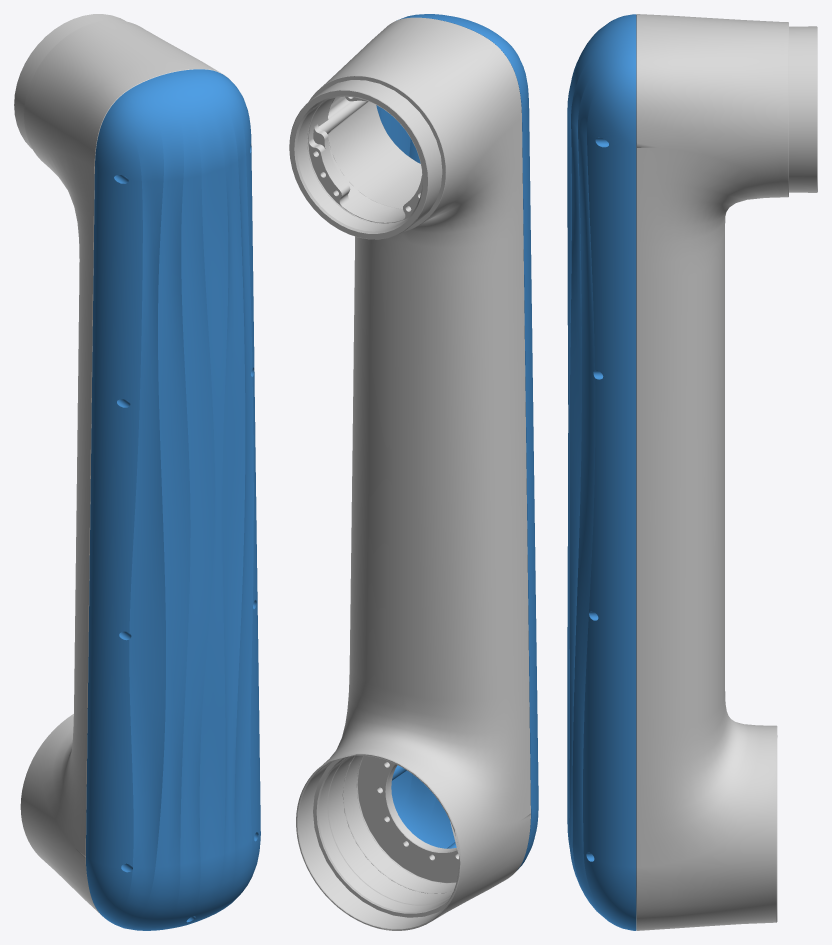
The picture shows the model from 3 angles, left to right: view 1: azimuth 30°, elevation 25°; view 2: azimuth 150°, elevation 25°; view 3: azimuth 270°, elevation 25°; orthographic projection. The views are drawn at different scales.
Parts seen in each view (by area): view 1: 3; view 2: 3; view 3: 3.
Part boxes in pixels (left/top/right/bottom): 3: left=14, top=14, right=260, bottom=930; 3: left=289, top=14, right=538, bottom=930; 3: left=567, top=14, right=817, bottom=930.
Size of the model in its own units: 103 by 497 by 127.
